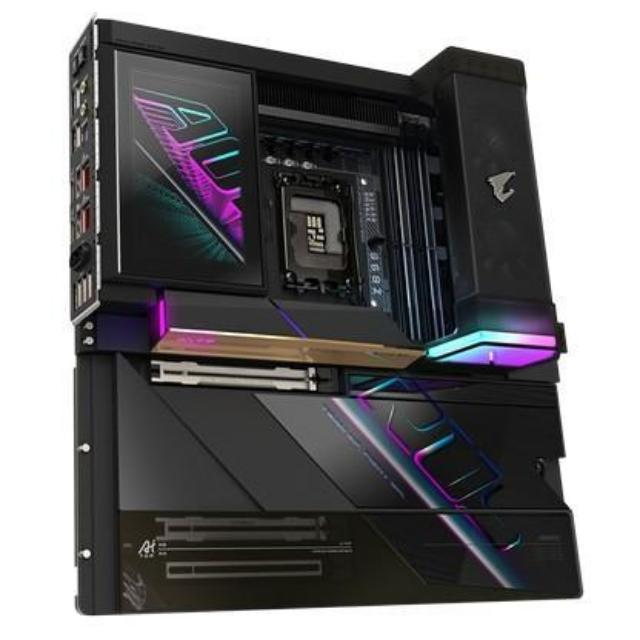Mainboard: (61, 6, 601, 623)
